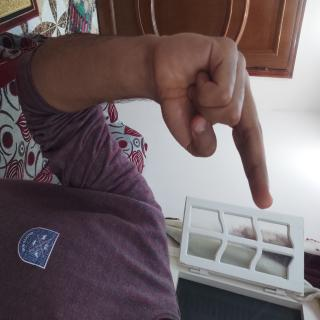ZAY: (15, 54, 164, 231)
